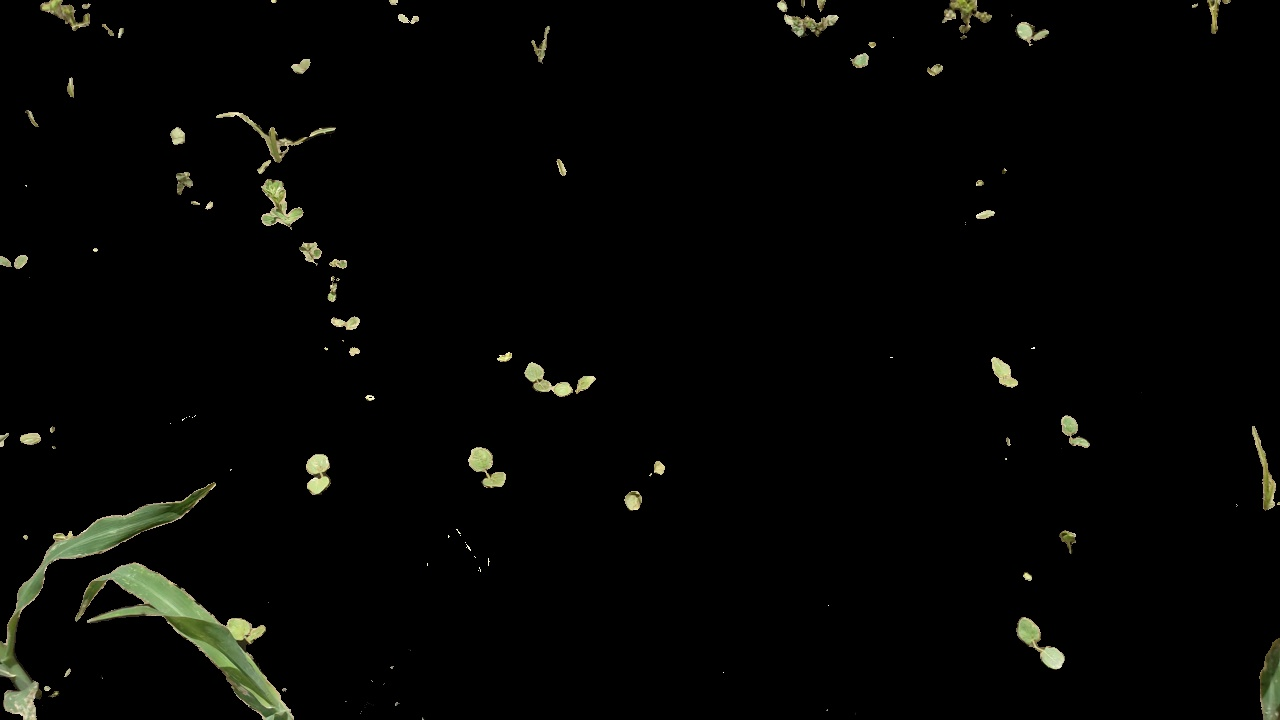crop: (1, 470, 298, 720)
weed: (1016, 612, 1067, 673), (521, 363, 602, 401), (255, 186, 318, 226), (220, 607, 275, 643), (466, 440, 506, 489), (1011, 16, 1055, 59), (979, 350, 1024, 391), (1057, 409, 1096, 455), (301, 443, 335, 494), (774, 18, 856, 39), (288, 239, 331, 264), (325, 313, 373, 334), (1, 251, 30, 271)
